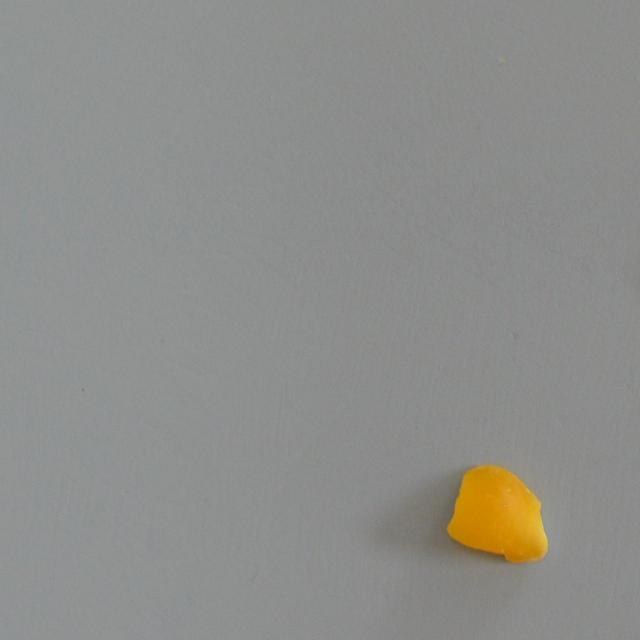estandar: (446, 465, 549, 562)
